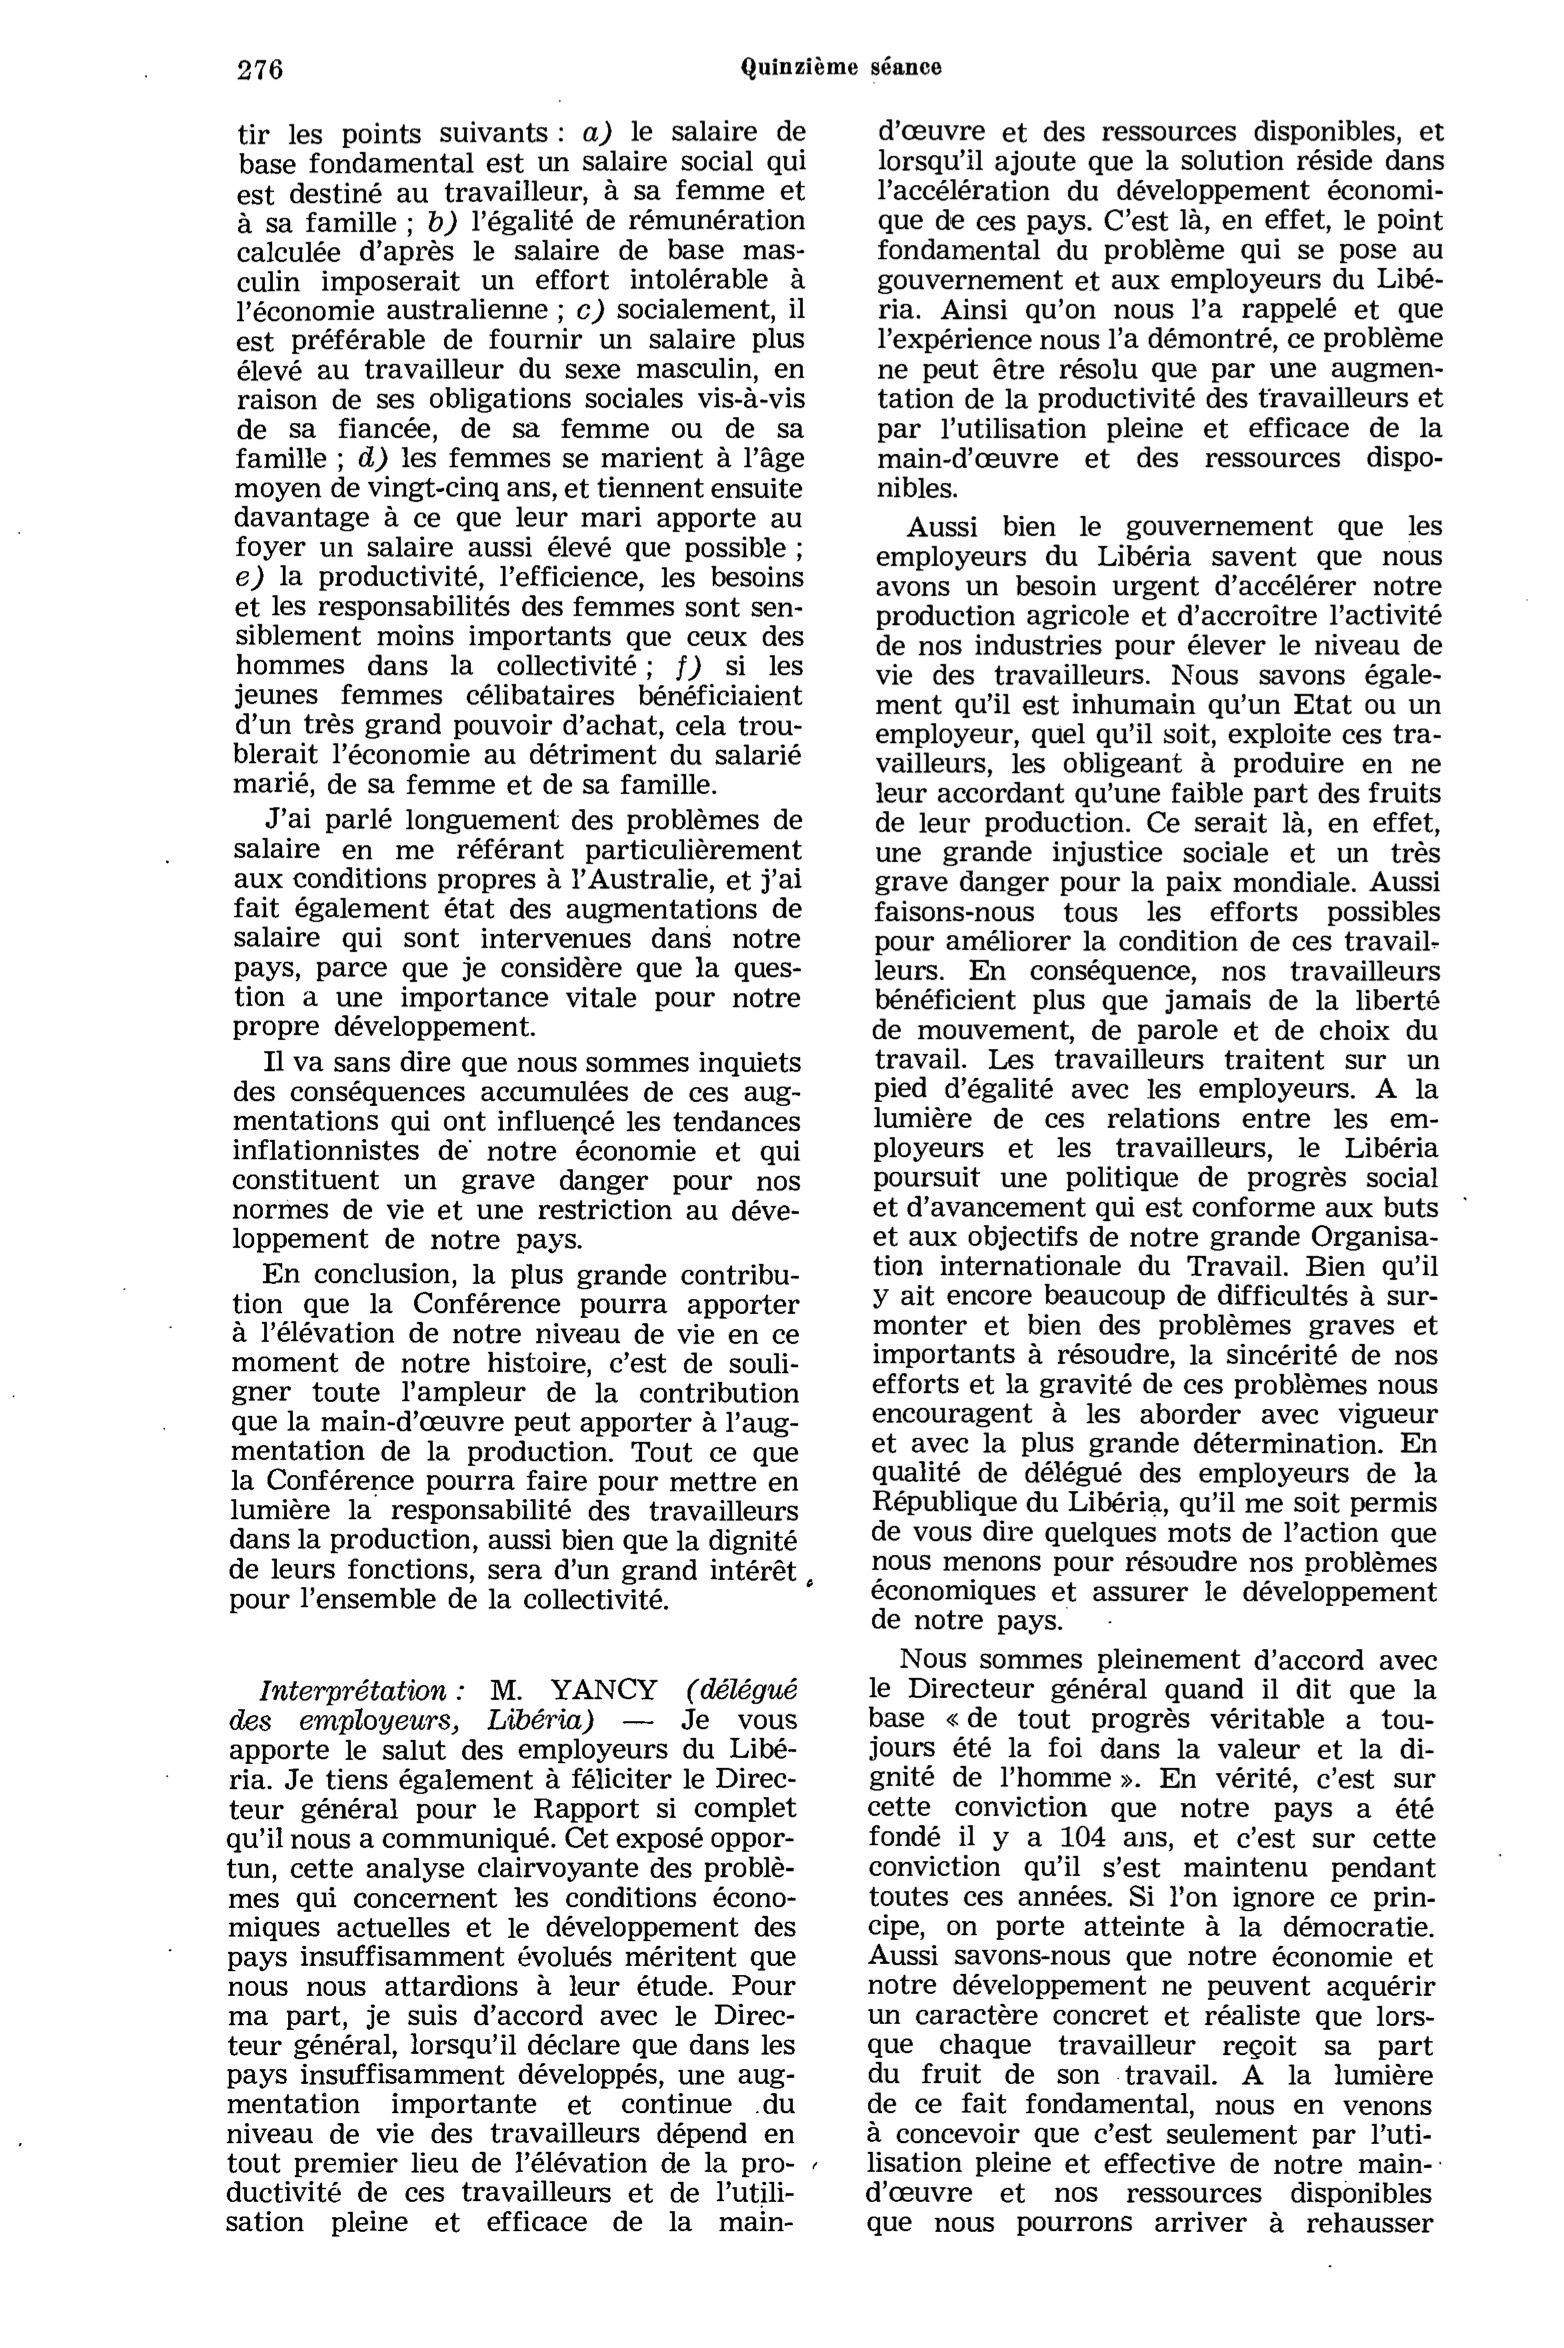MainZone-Continued: (224, 110, 816, 800), (868, 116, 1452, 504)
MainZone-P: (864, 509, 1452, 1639), (860, 1641, 1446, 2247), (218, 1670, 812, 2248), (222, 1257, 812, 1621), (224, 802, 810, 1042), (224, 1044, 808, 1254)
StampZone: (731, 45, 951, 93)
TitlePageZone: (230, 48, 292, 92)
